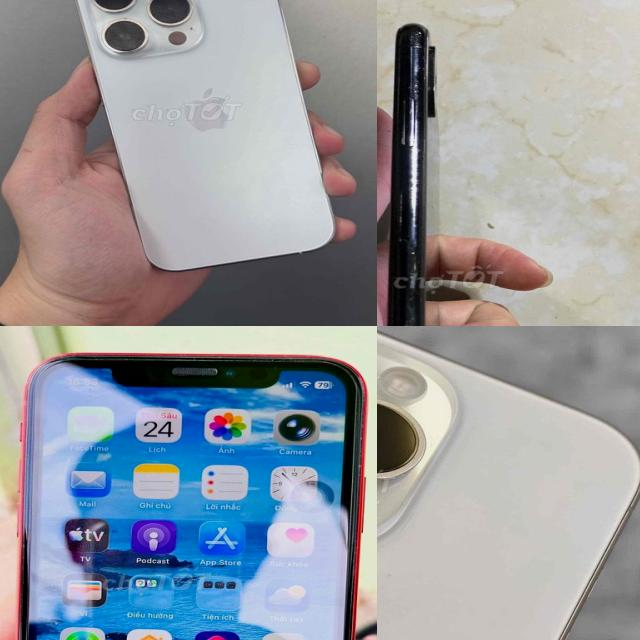scratch: (408, 34, 423, 110), (398, 238, 422, 269)
